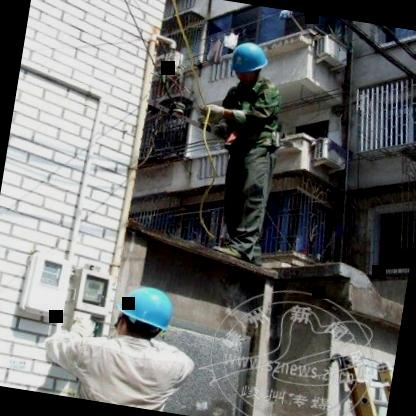helmet: (105, 278, 182, 353), (226, 37, 272, 88)
